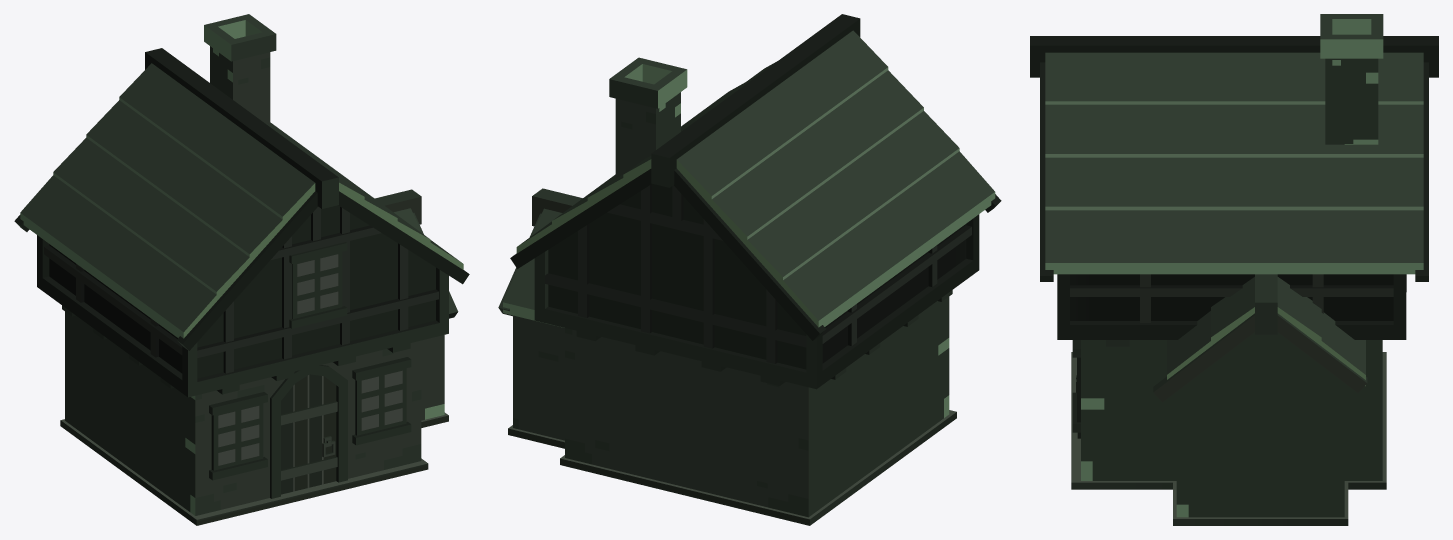
Rendered from SF_Bld_House_Blue_01.glb.
The picture shows the model from 3 angles, left to right: view 1: azimuth 30°, elevation 25°; view 2: azimuth 150°, elevation 25°; view 3: azimuth 270°, elevation 25°; orthographic projection. The views are drawn at different scales.
Parts seen in each view (by area): view 1: SF_Bld_House_Blue_01; view 2: SF_Bld_House_Blue_01; view 3: SF_Bld_House_Blue_01.
Boxes of the visible parts, x1,y1,x2,y2 form: SF_Bld_House_Blue_01: [14, 14, 469, 525]; SF_Bld_House_Blue_01: [498, 14, 1001, 525]; SF_Bld_House_Blue_01: [1030, 14, 1438, 525].
Size of the model in its own units: 0.1151 by 0.1217 by 0.1061.
1 material, 1 textured.
